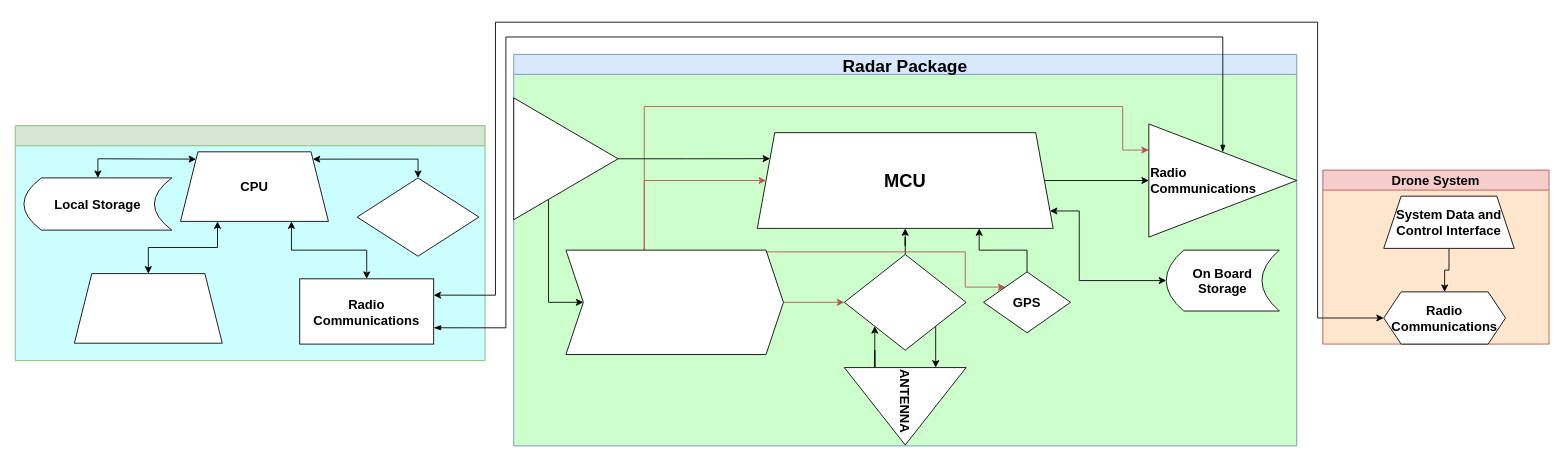
This 1564x461 diagram has some shape labels left out. The shapes that lost their labels are listed below. From the top down, each one's box as (x1, y1, x2, y2) in pixels, then its label:
(513, 97, 618, 220): Ports (COM/Power)
(356, 177, 479, 256): User Interface
(14, 125, 485, 361): Base Control
(74, 273, 222, 343): Data Analysis
(565, 249, 783, 355): BATTERY
(843, 254, 966, 350): GPR
